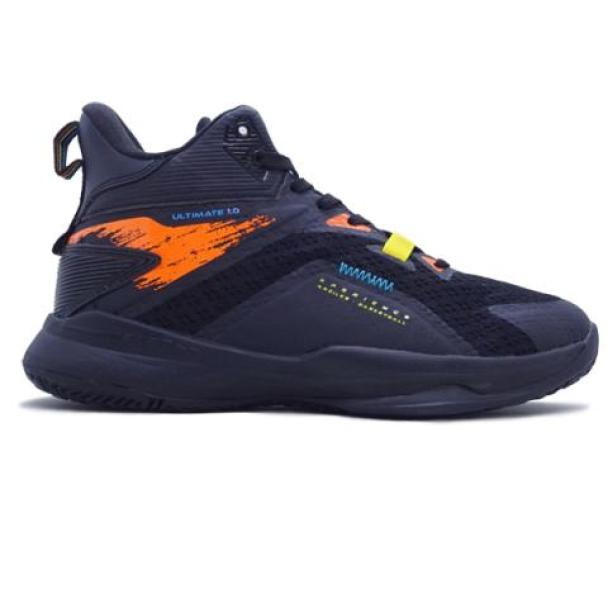Sepatu: (24, 100, 590, 415)
